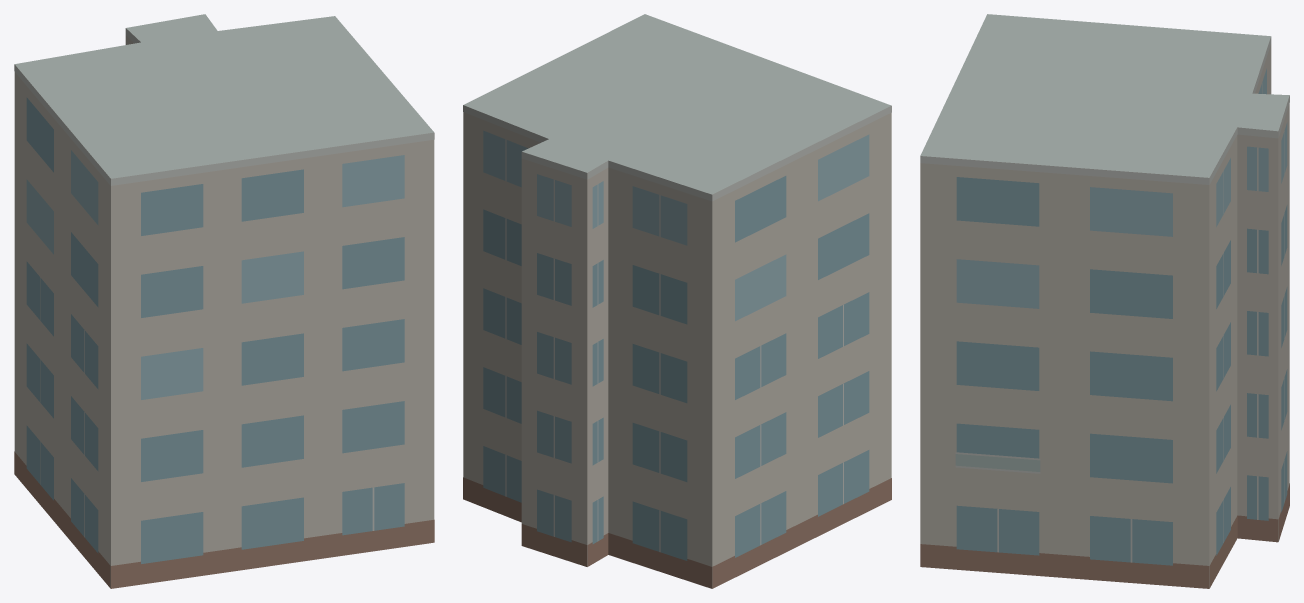
Rendered from survey-upis-32642552.glb.
3 renders of one model, left to right at view 1: azimuth 30°, elevation 25°; view 2: azimuth 150°, elevation 25°; view 3: azimuth 270°, elevation 25°, orthographic. The views are drawn at different scales.
Parts seen in each view (by area): view 1: survey-upis-32642552.tmp; view 2: survey-upis-32642552.tmp; view 3: survey-upis-32642552.tmp.
Boxes of the visible parts, left/top/right/bottom form: survey-upis-32642552.tmp: left=14, top=14, right=434, bottom=588; survey-upis-32642552.tmp: left=463, top=14, right=891, bottom=588; survey-upis-32642552.tmp: left=920, top=14, right=1289, bottom=588.
Bounding box in the file's own units: 11.98 × 14 × 11.42.
